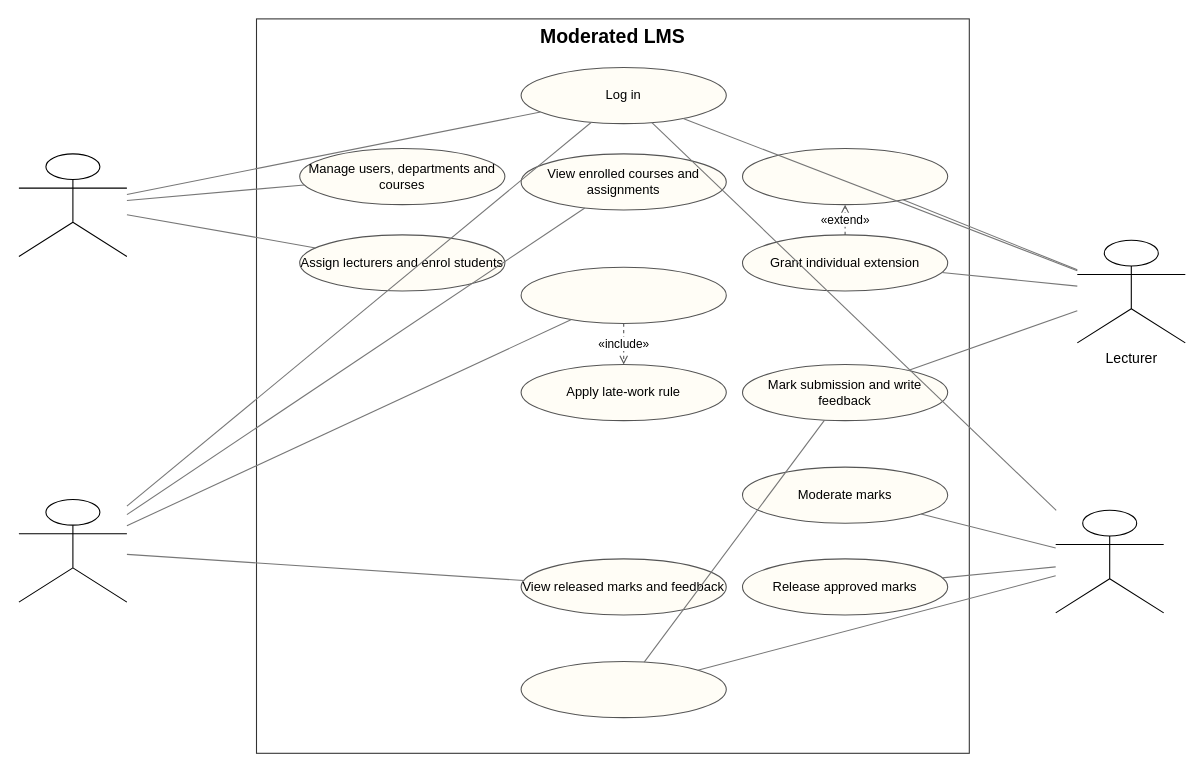
Some shapes in this 1204 by 772 pixel diagram are drawn without their labels. The shapes that lost their labels are listed below. From the top down, each one's centre as x and y in pixels, then its label:
the point at 844,176: Create assignment
the point at 72,204: Administrator
the point at 623,294: Submit / resubmit assignment
the point at 72,550: Student
the point at 1109,561: Head of Department
the point at 623,689: Record mark change in audit log
